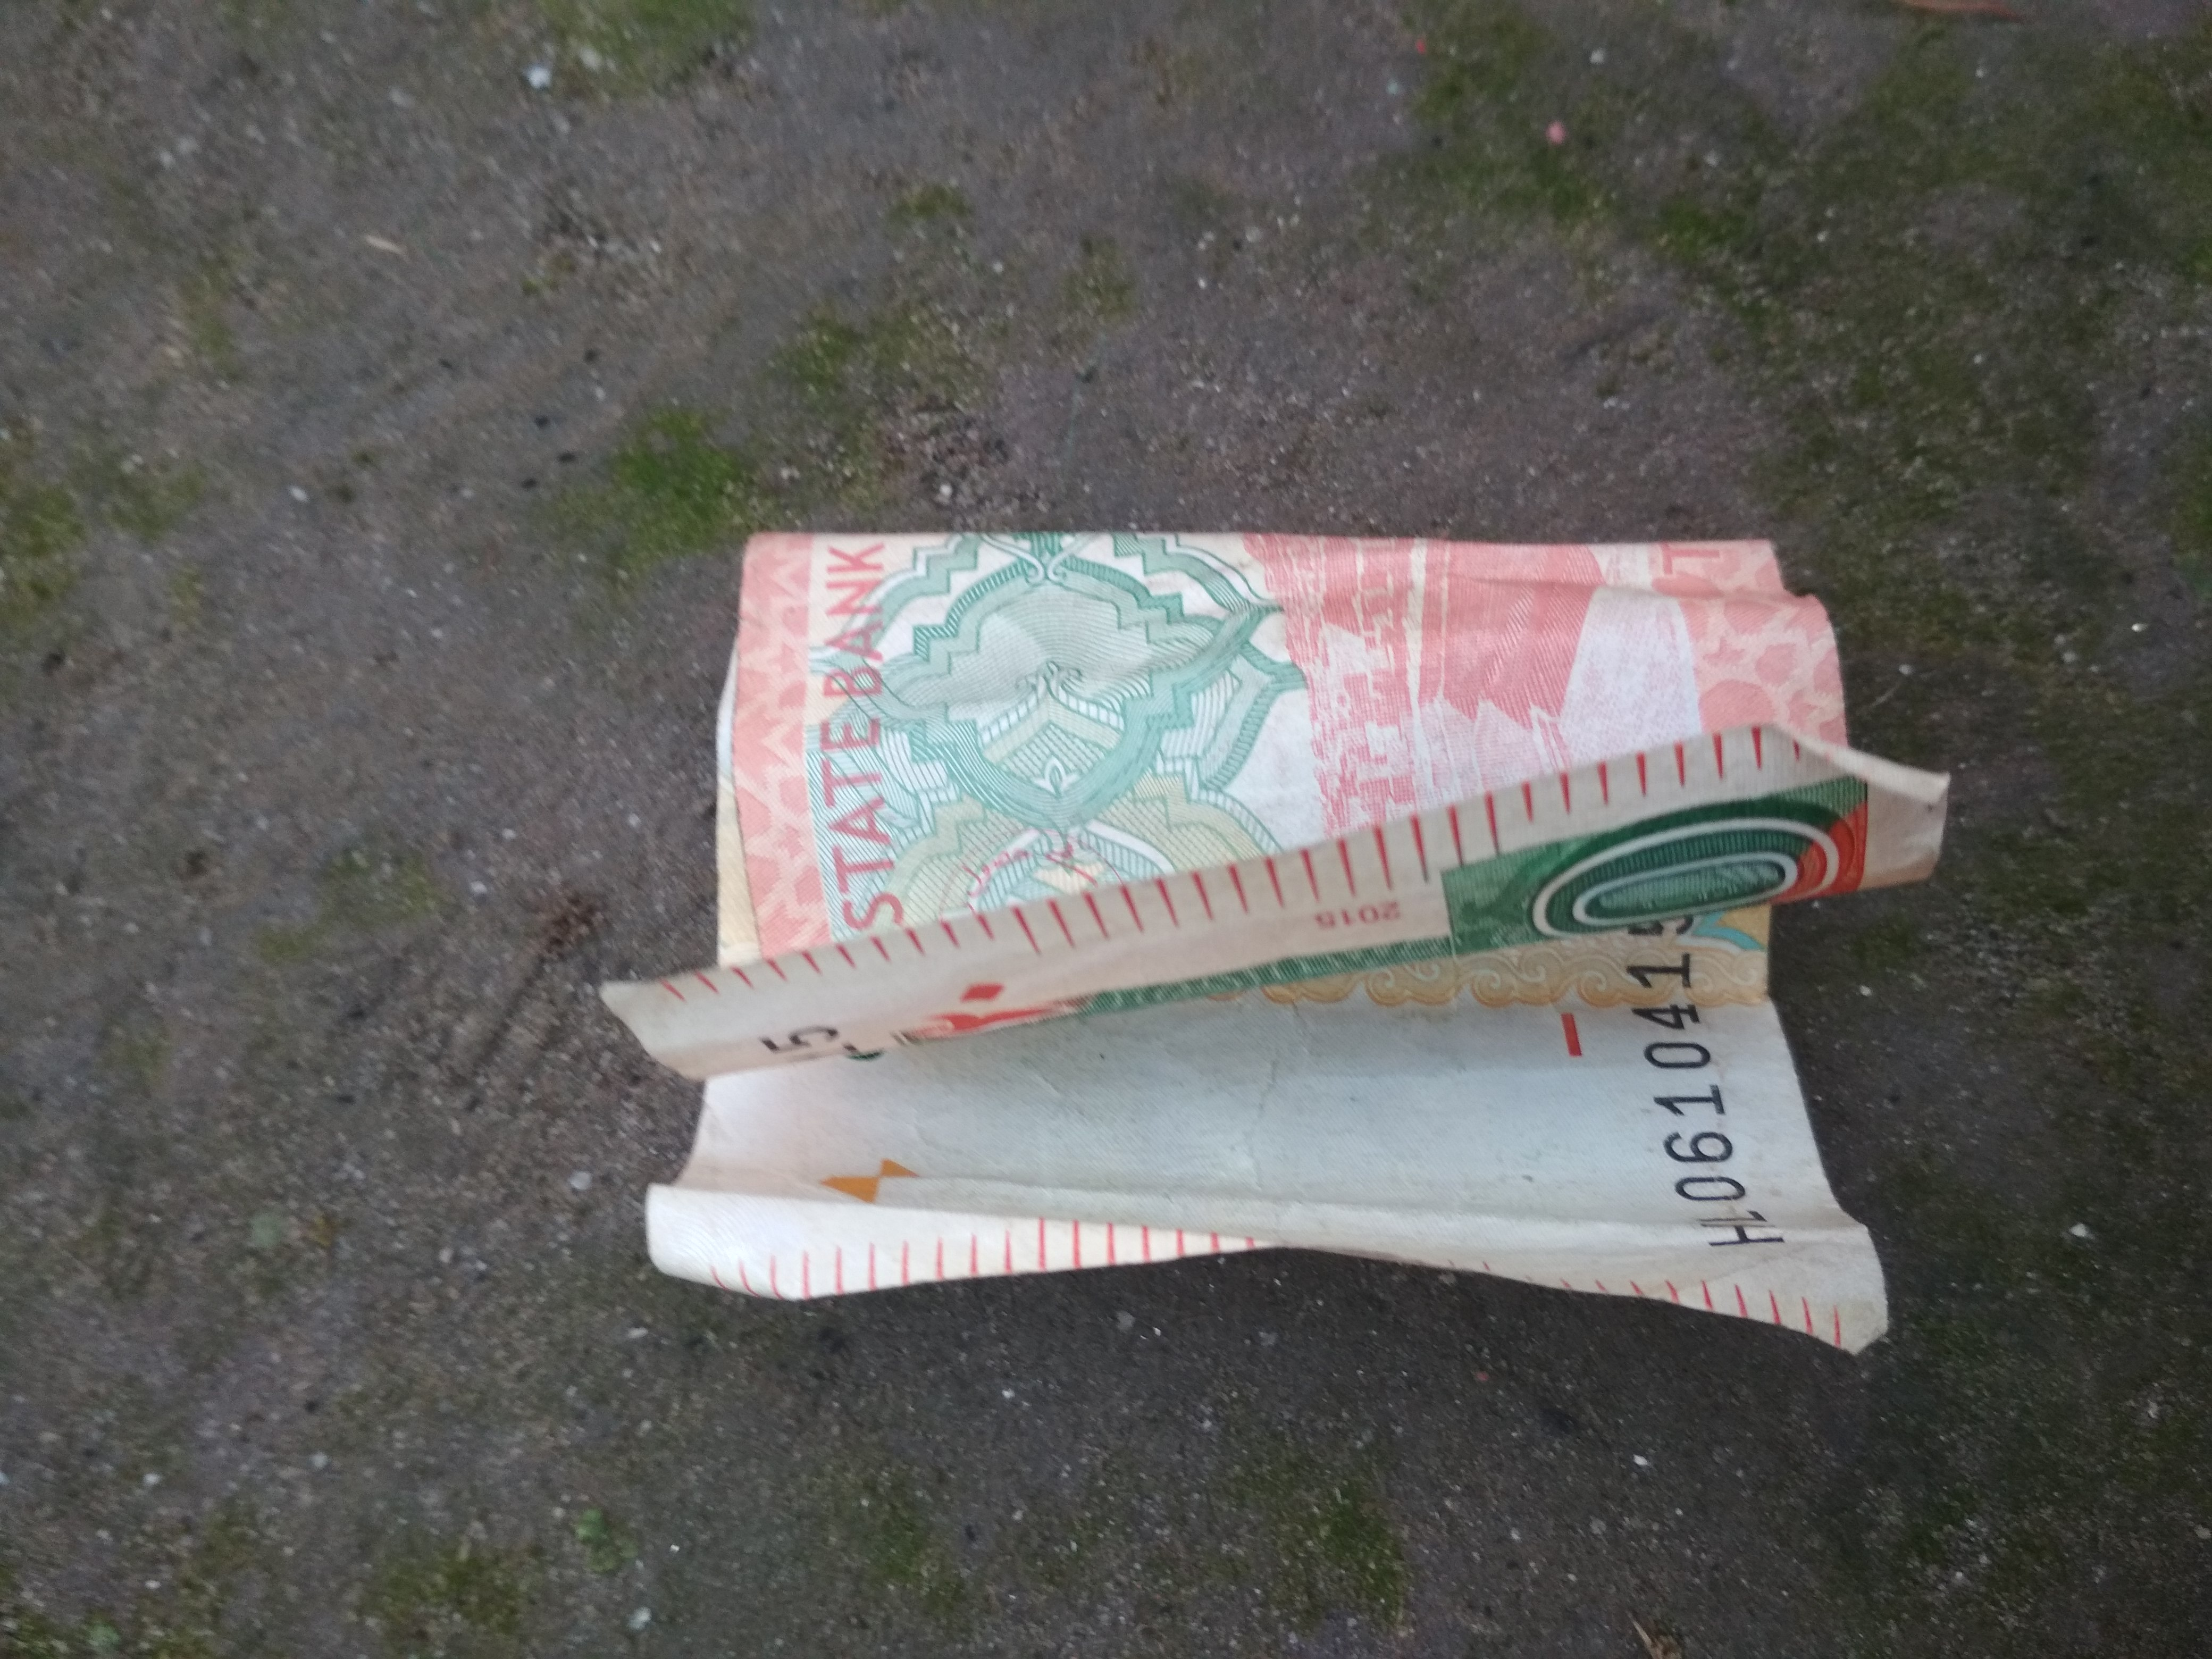20 rupee: (570, 410, 1993, 1556)
